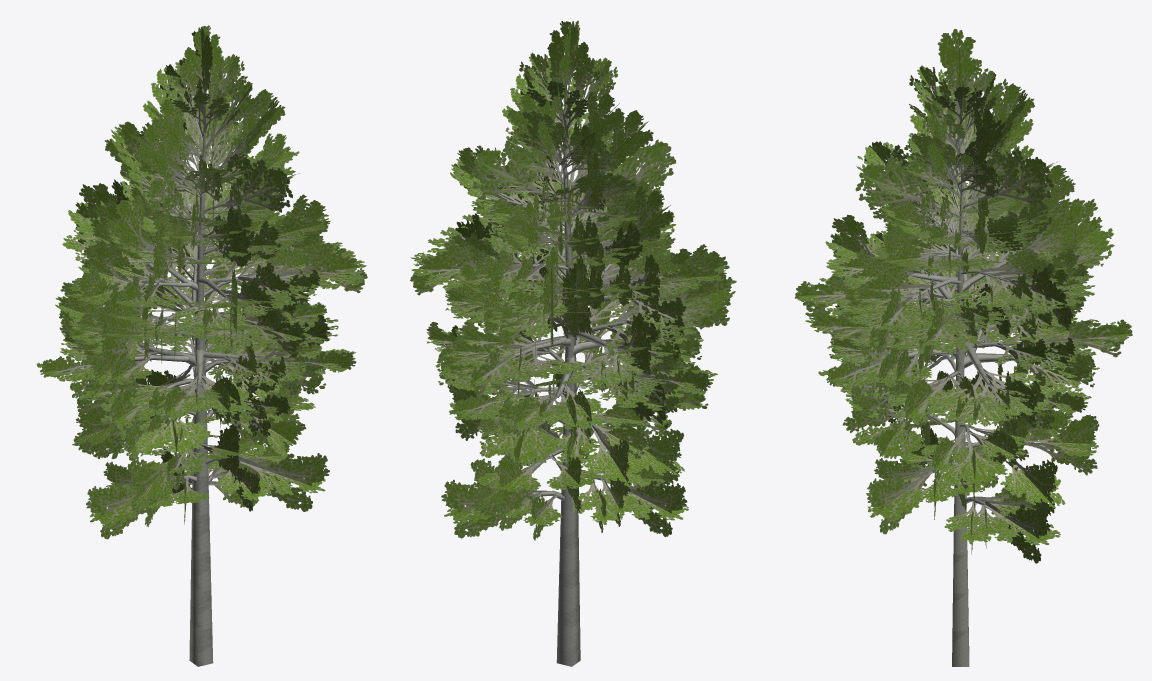
The model's file is AlnusRubra.glb.
3 renders of one model, left to right at view 1: azimuth 30°, elevation 25°; view 2: azimuth 150°, elevation 25°; view 3: azimuth 270°, elevation 25°, orthographic.
Parts seen in each view (by area): view 1: Red_Alder__Realistic_LOD3; view 2: Red_Alder__Realistic_LOD3; view 3: Red_Alder__Realistic_LOD3.
Boxes of the visible parts, x1=… form: Red_Alder__Realistic_LOD3: x1=36, y1=25, x2=367, y2=666; Red_Alder__Realistic_LOD3: x1=410, y1=20, x2=736, y2=666; Red_Alder__Realistic_LOD3: x1=795, y1=29, x2=1132, y2=666.
Bounding box in the file's own units: 12.03 × 23.22 × 11.82.
1 material, 1 textured.
